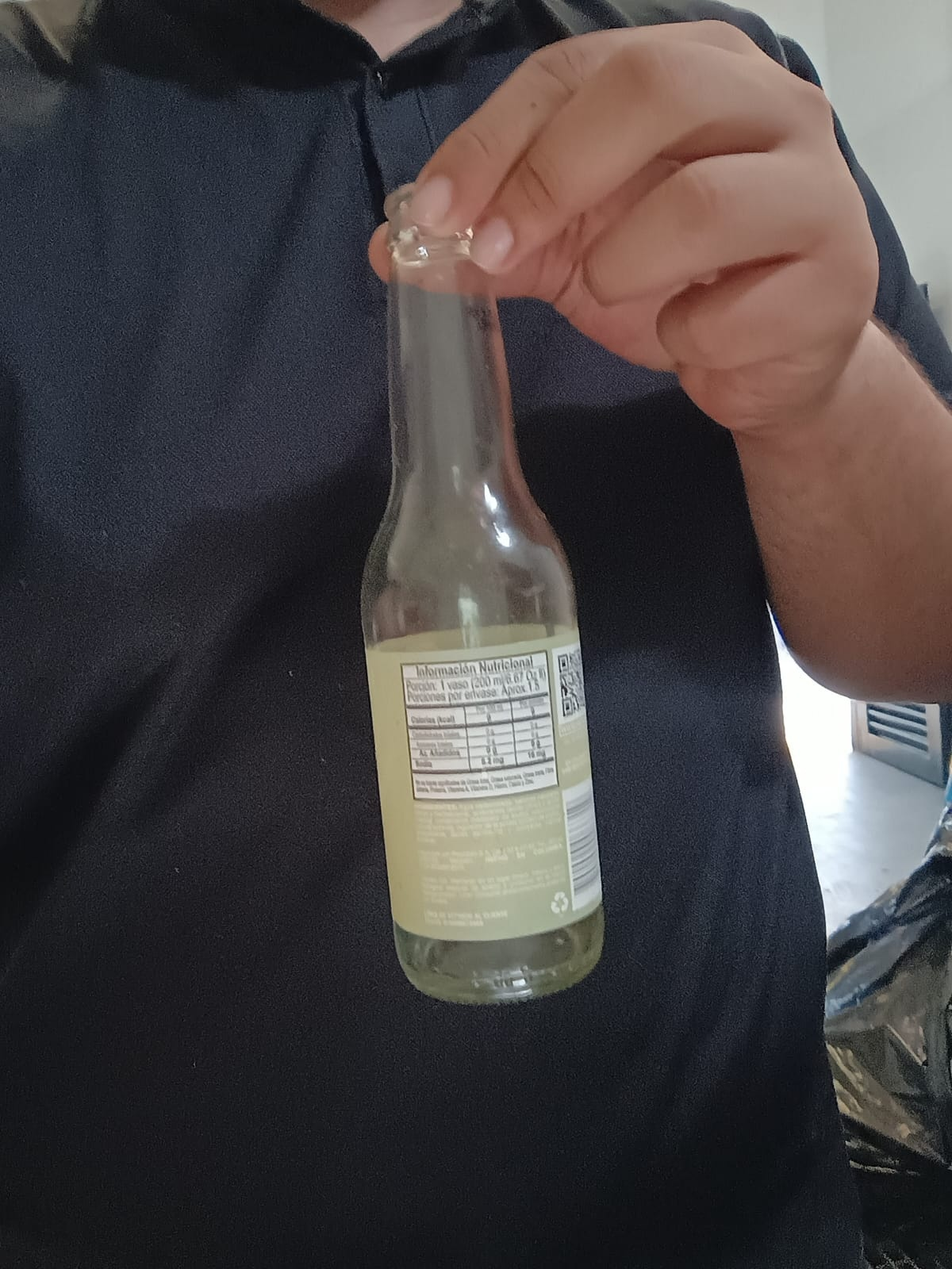Vidrio: (358, 186, 607, 1002)
